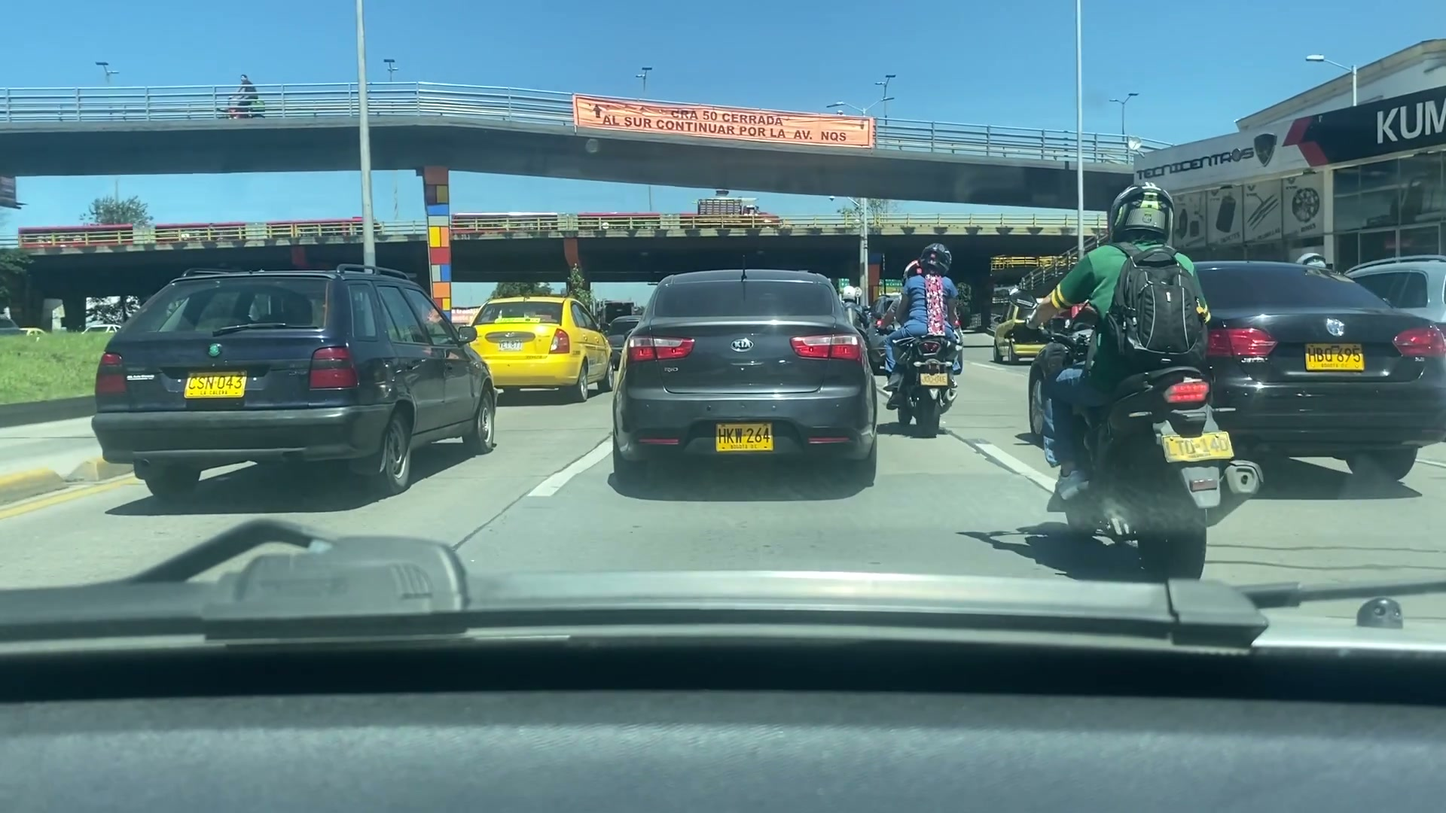car: (94, 271, 502, 498), (1171, 257, 1446, 483), (609, 268, 880, 488), (466, 296, 613, 398), (607, 313, 642, 356)
motorcycle: (1047, 360, 1267, 584), (868, 328, 962, 430)
person: (1043, 186, 1220, 493), (879, 244, 967, 389)
